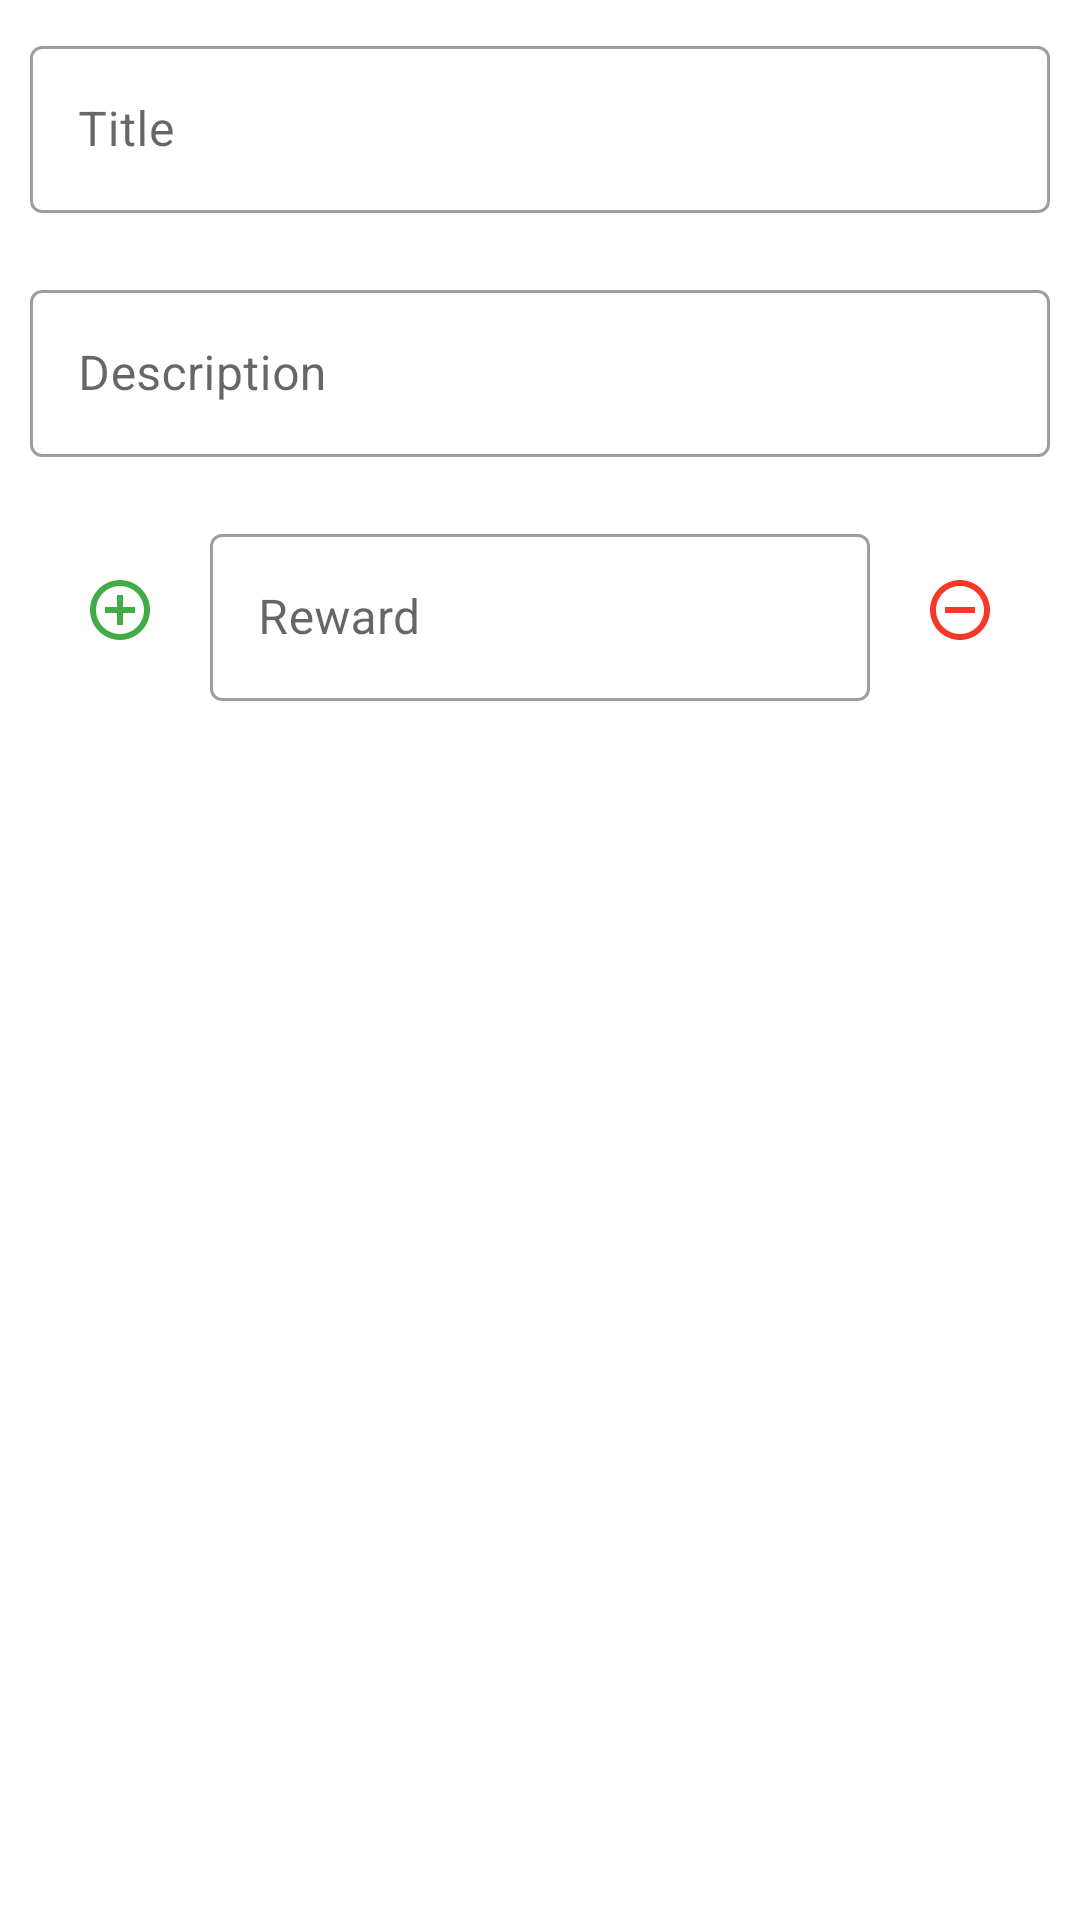

Screen size 1080*1920. Icon name, then its box in pixels as (x1, y1, x2, y2):
minus: (930, 580, 990, 640)
plus: (90, 580, 150, 640)
